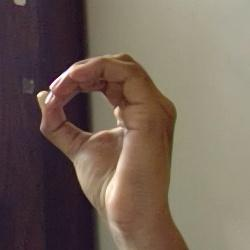A: (21, 22, 210, 250)
